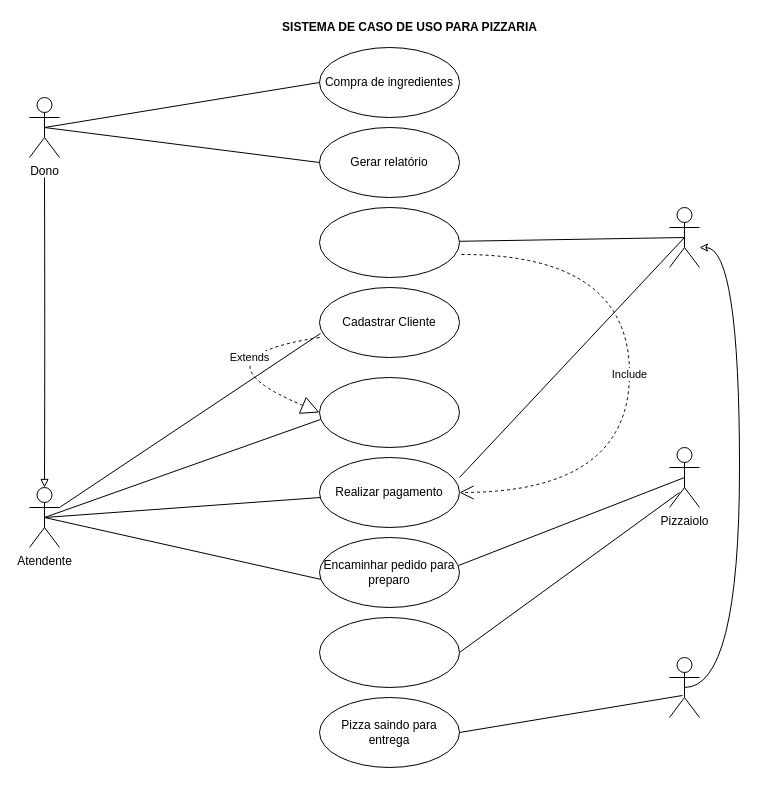
This 757x785 diagram has some shape labels left out. Each missing label, with the centre of its shape:
"cadastrar pedido" belongs at (389,412).
"Cliente" belongs at (684,237).
"Entregador" belongs at (684,687).
"fazer pedido" belongs at (389,242).
"pedido pronto para entrega" belongs at (389,652).
